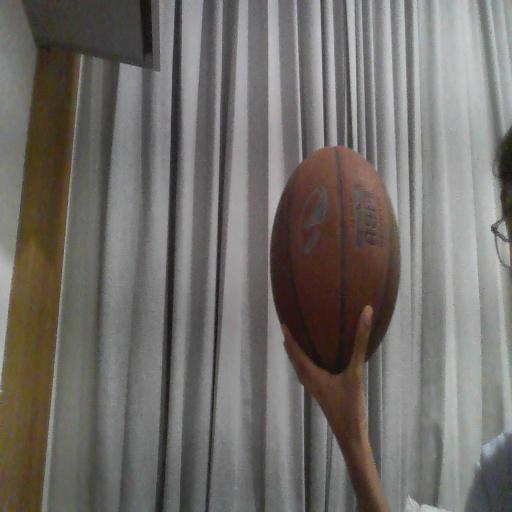basketball: (270, 147, 399, 373)
